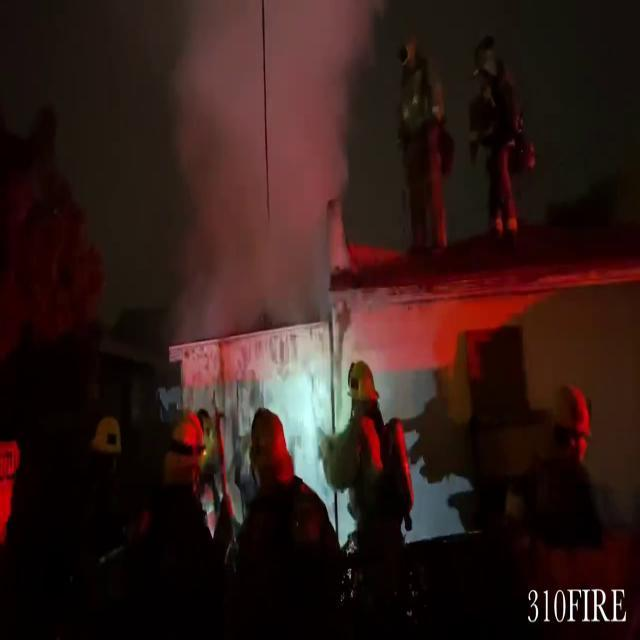Smoke: (152, 1, 392, 362)
